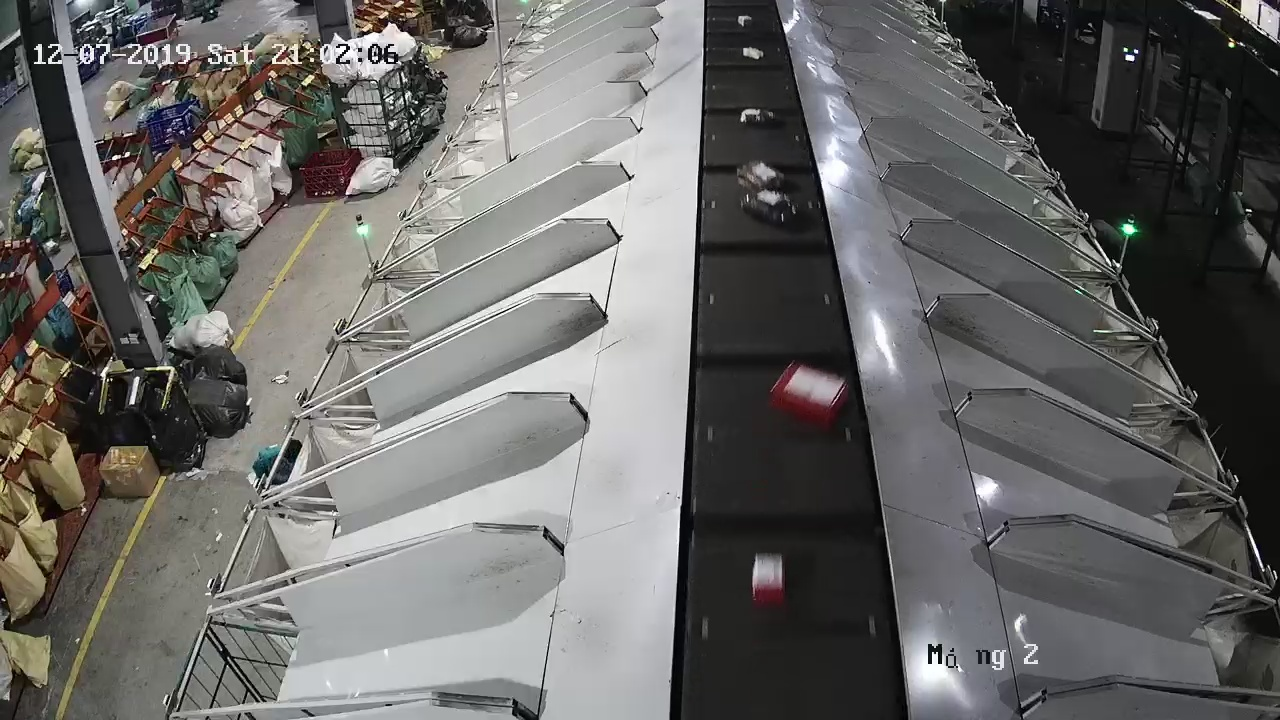parcel: (767, 358, 850, 431)
